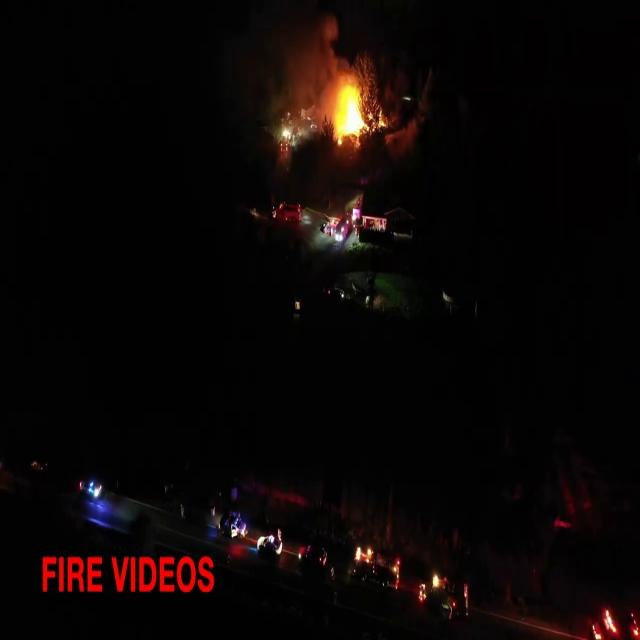fire: (331, 73, 369, 149), (589, 595, 640, 640)
smoke: (247, 3, 336, 125)
